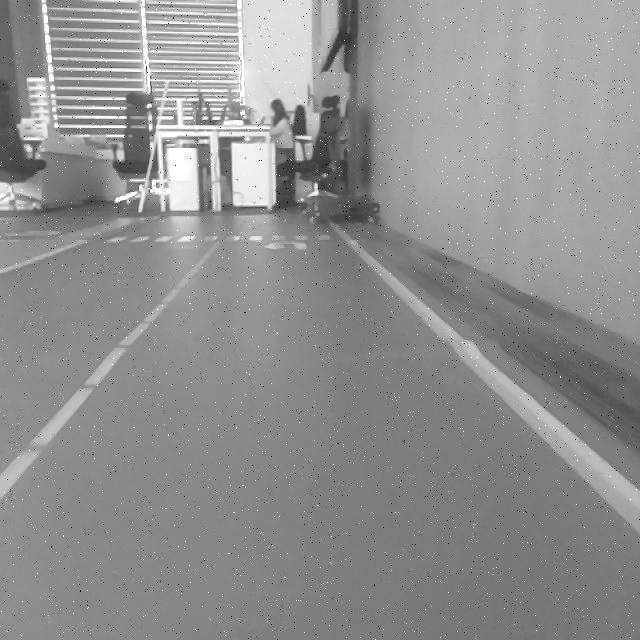left_lane: (0, 239, 222, 504)
right_lane: (329, 223, 640, 530)
